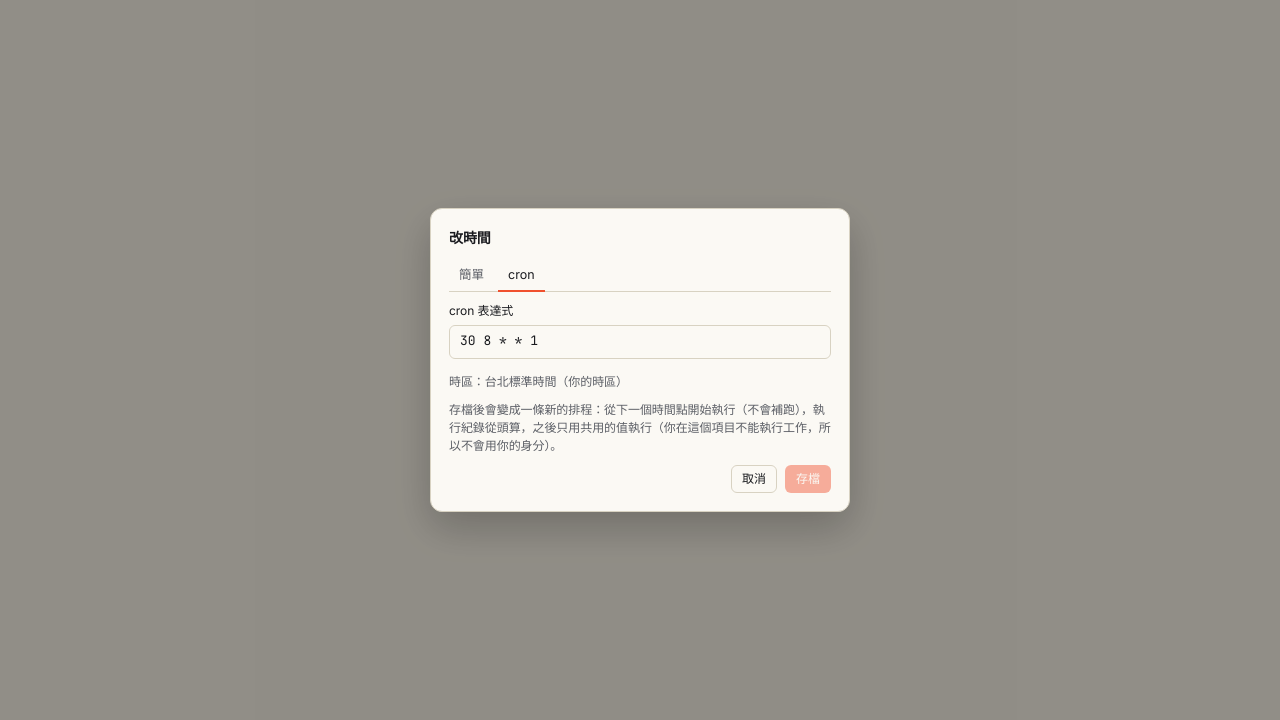
it: ScheduleTimeModal — 簡單 / cron (docs/plan-schedule-cron.md decision 4) › switching cron → 簡單 carries a cron the simple form can say
Click the tab "簡單".
click(472, 275)  # box [449, 259, 494, 292]
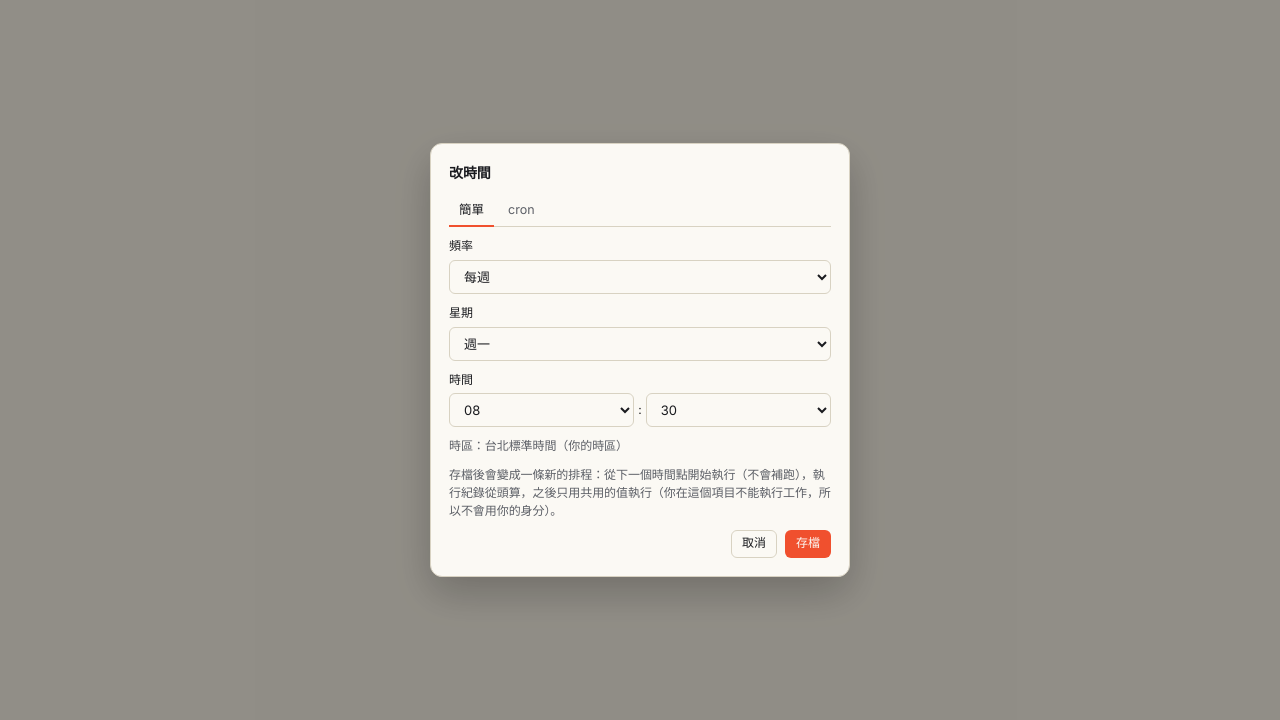
Check: the dropdown labelled "頻率" shows "每週", box [449, 260, 831, 294]
Check: the dropdown labelled "星期" shows "週一", box [449, 326, 831, 360]
Check: the dropdown named "時" shows "08", box [449, 393, 634, 427]
